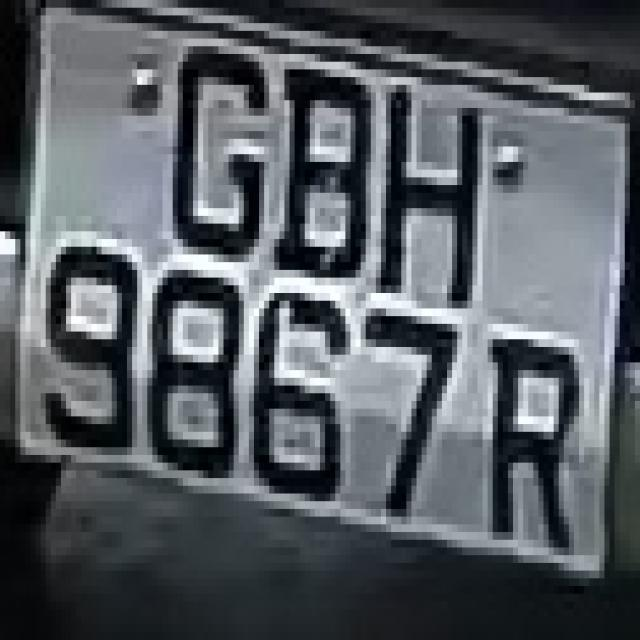6: (249, 278, 355, 524)
7: (346, 286, 472, 548)
8: (137, 239, 259, 486)
9: (41, 208, 137, 486)
B: (274, 62, 376, 316)
G: (163, 23, 274, 278)
H: (376, 62, 477, 324)
R: (473, 316, 584, 578)
